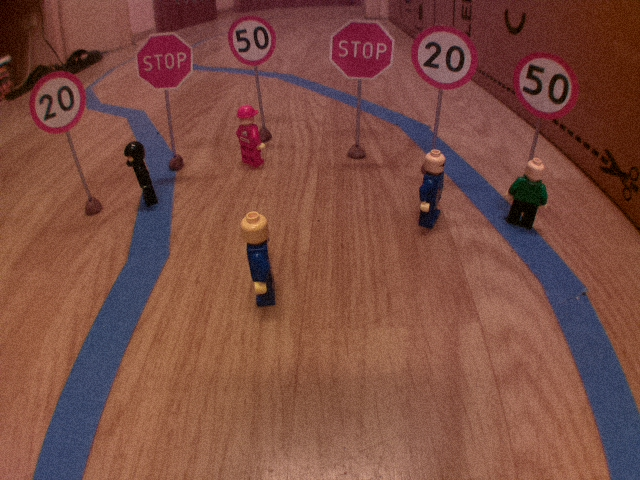LEGO_person: (235, 208, 289, 313), (501, 157, 552, 231), (413, 143, 449, 235), (232, 103, 268, 167)
ogr_20: (408, 24, 482, 92), (27, 69, 91, 137)
ogr_50: (507, 50, 584, 124), (225, 12, 279, 68)
stop: (327, 16, 397, 83), (133, 28, 198, 91)
